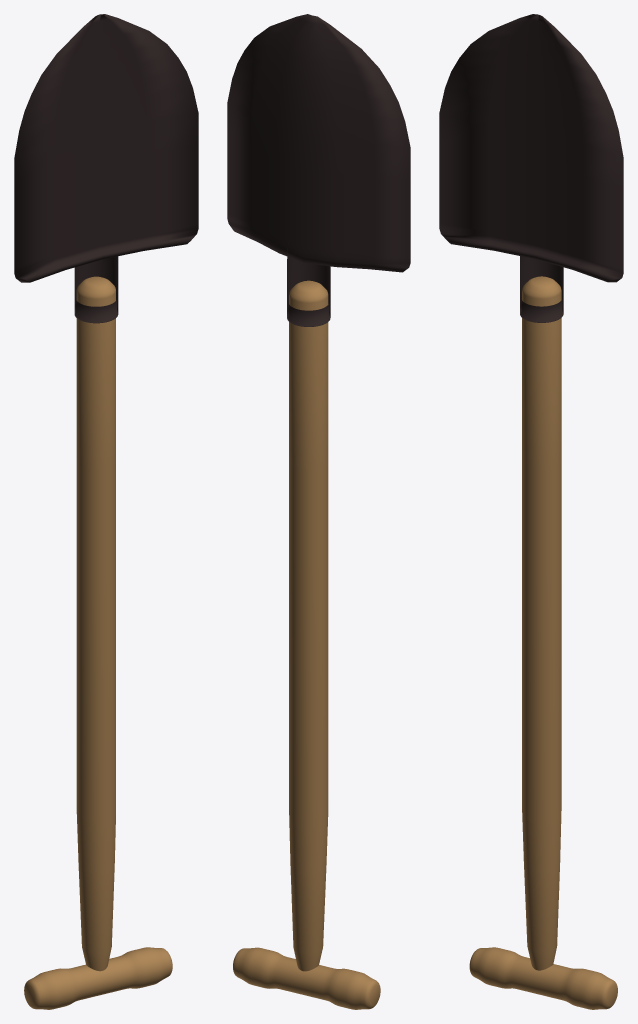
File: shovel.obj
3 views of the same model, side by side, from view 1: azimuth 30°, elevation 25°; view 2: azimuth 150°, elevation 25°; view 3: azimuth 330°, elevation 25° (orthographic).
Parts seen in each view (by area): view 1: spaten_Fläche, griff_Kreis.001; view 2: spaten_Fläche, griff_Kreis.001; view 3: spaten_Fläche, griff_Kreis.001.
Part boxes in pixels (x1,y1,x2,y2): spaten_Fläche: (14,14,198,323); griff_Kreis.001: (24,276,172,1009); spaten_Fläche: (227,14,410,326); griff_Kreis.001: (233,280,380,1009); spaten_Fläche: (439,14,623,322); griff_Kreis.001: (469,276,617,1009).
Bounding box in the file's own units: 0.101 × 0.5148 × 0.0225.
